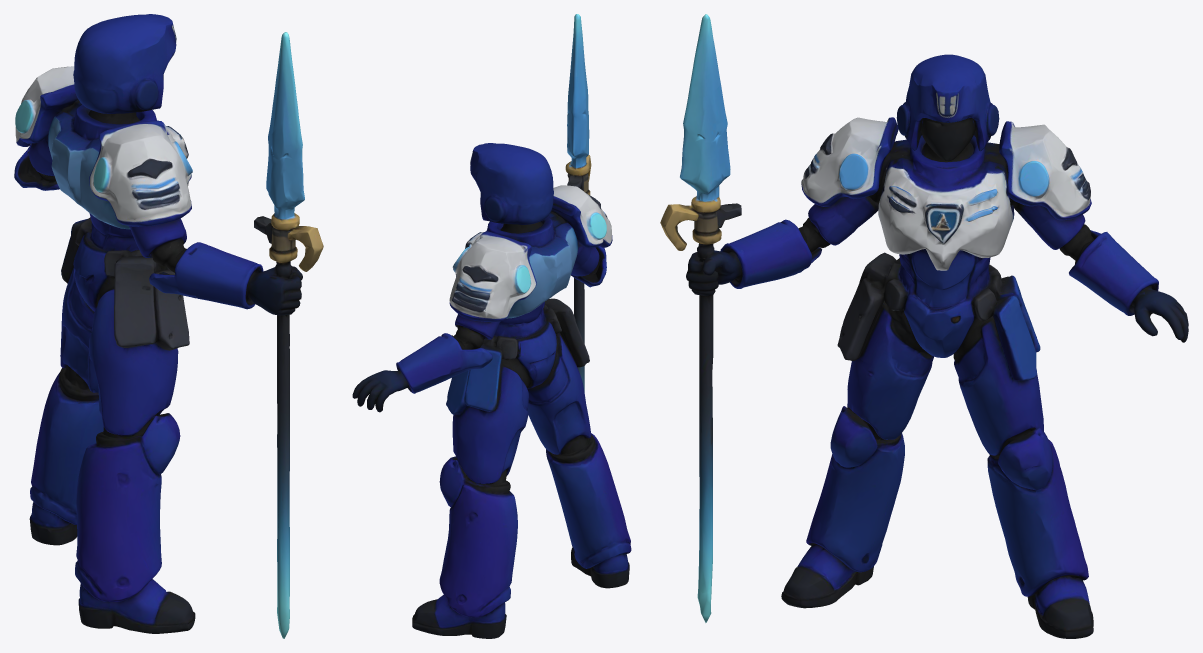
The model's file is captain-meridian.glb.
The picture shows the model from 3 angles, left to right: view 1: azimuth 30°, elevation 25°; view 2: azimuth 150°, elevation 25°; view 3: azimuth 270°, elevation 25°; orthographic projection. The views are drawn at different scales.
Visible parts, largest first — view 1: tripo_node_01a348fb-c977-4dc2-b9f0-d2d14d15ce64; view 2: tripo_node_01a348fb-c977-4dc2-b9f0-d2d14d15ce64; view 3: tripo_node_01a348fb-c977-4dc2-b9f0-d2d14d15ce64.
Part boxes in pixels (<box>): tripo_node_01a348fb-c977-4dc2-b9f0-d2d14d15ce64: <box>14,14,323,638</box>; tripo_node_01a348fb-c977-4dc2-b9f0-d2d14d15ce64: <box>352,14,631,638</box>; tripo_node_01a348fb-c977-4dc2-b9f0-d2d14d15ce64: <box>660,14,1188,638</box>.
Size of the model in its own units: 0.2937 by 1 by 0.774.
Materials: 1 (1 with a texture image).
